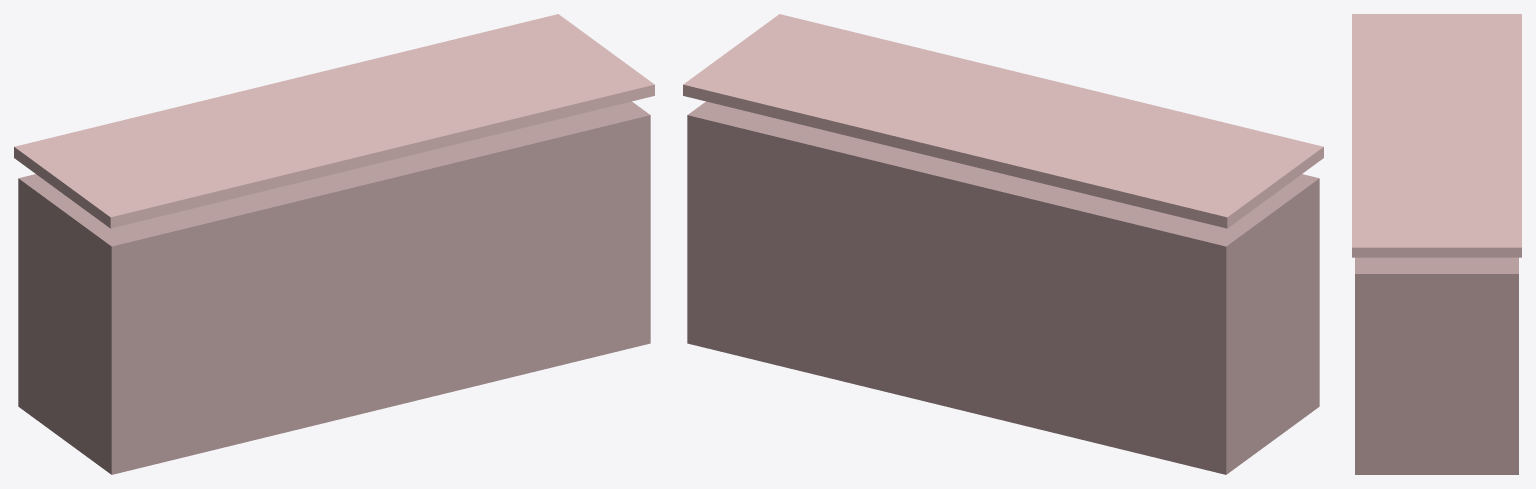
File: kitchen-counter.glb
The picture shows the model from 3 angles, left to right: view 1: azimuth 30°, elevation 25°; view 2: azimuth 150°, elevation 25°; view 3: azimuth 270°, elevation 25°; orthographic projection. The views are drawn at different scales.
Size of the model in its own units: 202 by 92 by 62.
